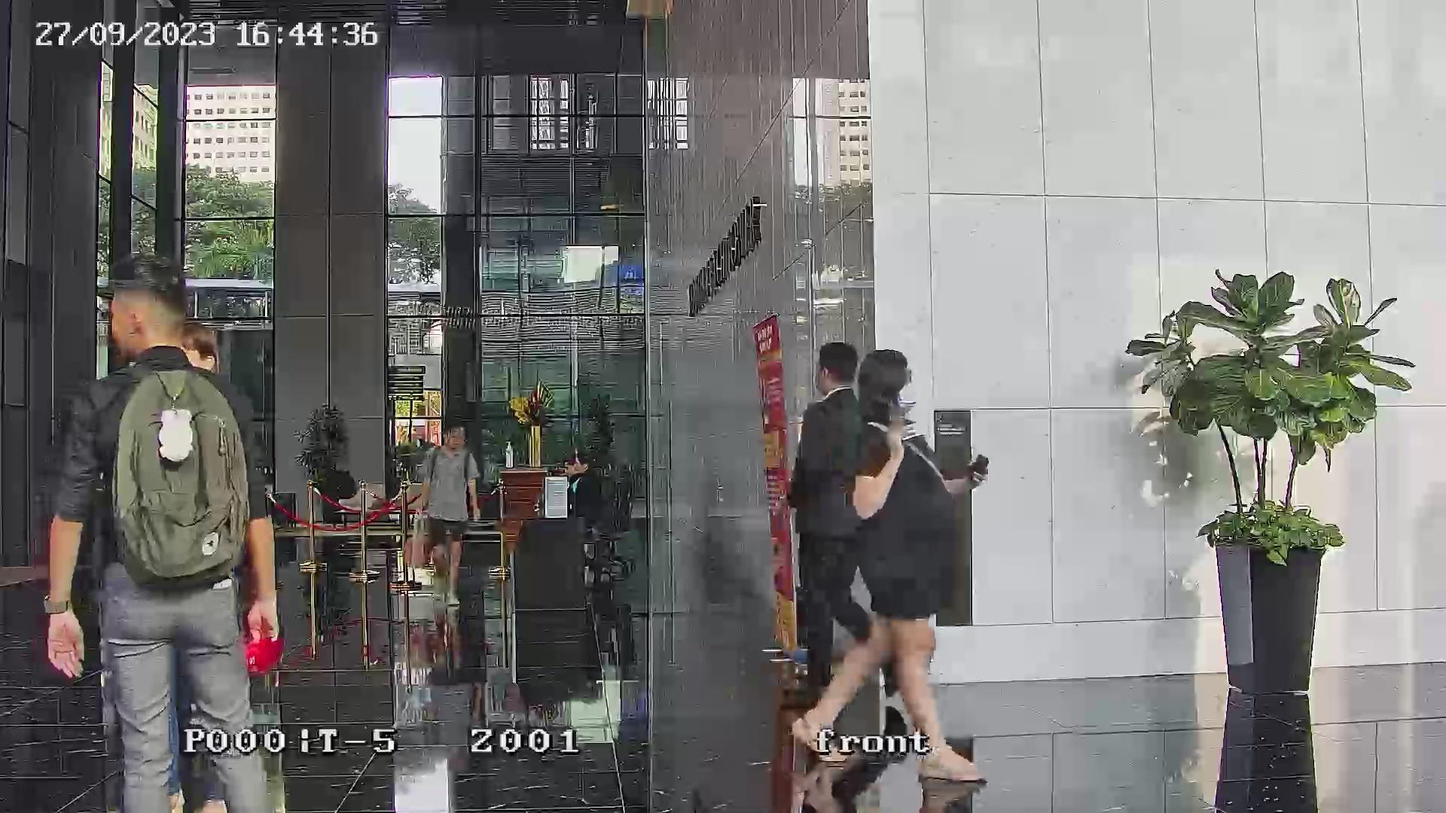person: (44, 256, 282, 807), (789, 348, 990, 784), (788, 342, 870, 694), (408, 423, 481, 602), (574, 452, 604, 523), (563, 457, 581, 510)
